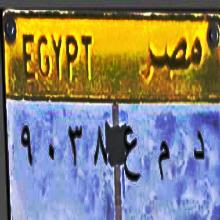0: (46, 136, 57, 166)
3: (66, 116, 84, 176)
8: (90, 120, 108, 174)
9: (18, 121, 35, 175)
ain: (121, 122, 141, 190)
daal: (188, 124, 207, 176)
meem: (155, 136, 172, 188)
